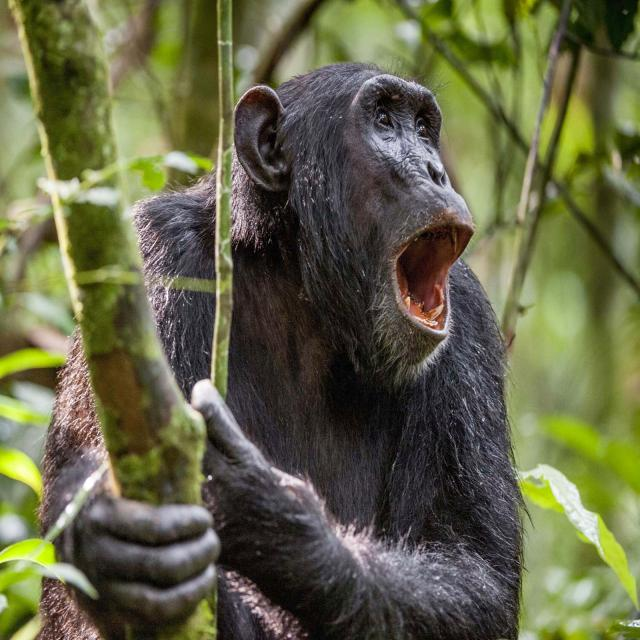chimpanzee: (133, 63, 523, 640)
